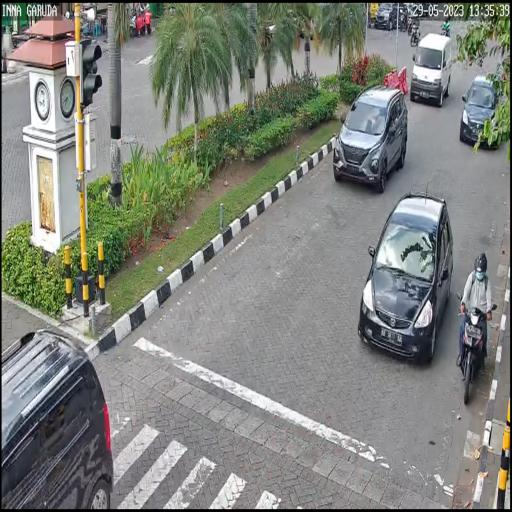mobil: (358, 190, 454, 363), (334, 80, 408, 190), (409, 35, 451, 106), (459, 74, 499, 146)
motor: (457, 293, 499, 405)
